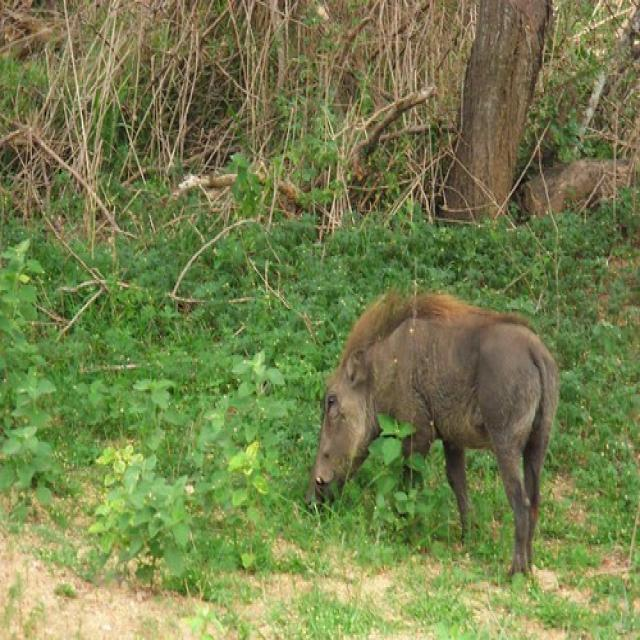boar: (299, 285, 568, 565)
